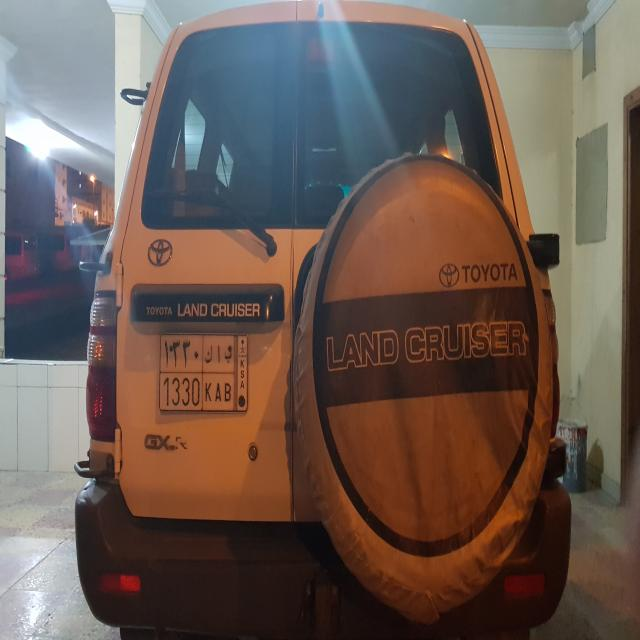license_plate: (157, 330, 250, 415)
